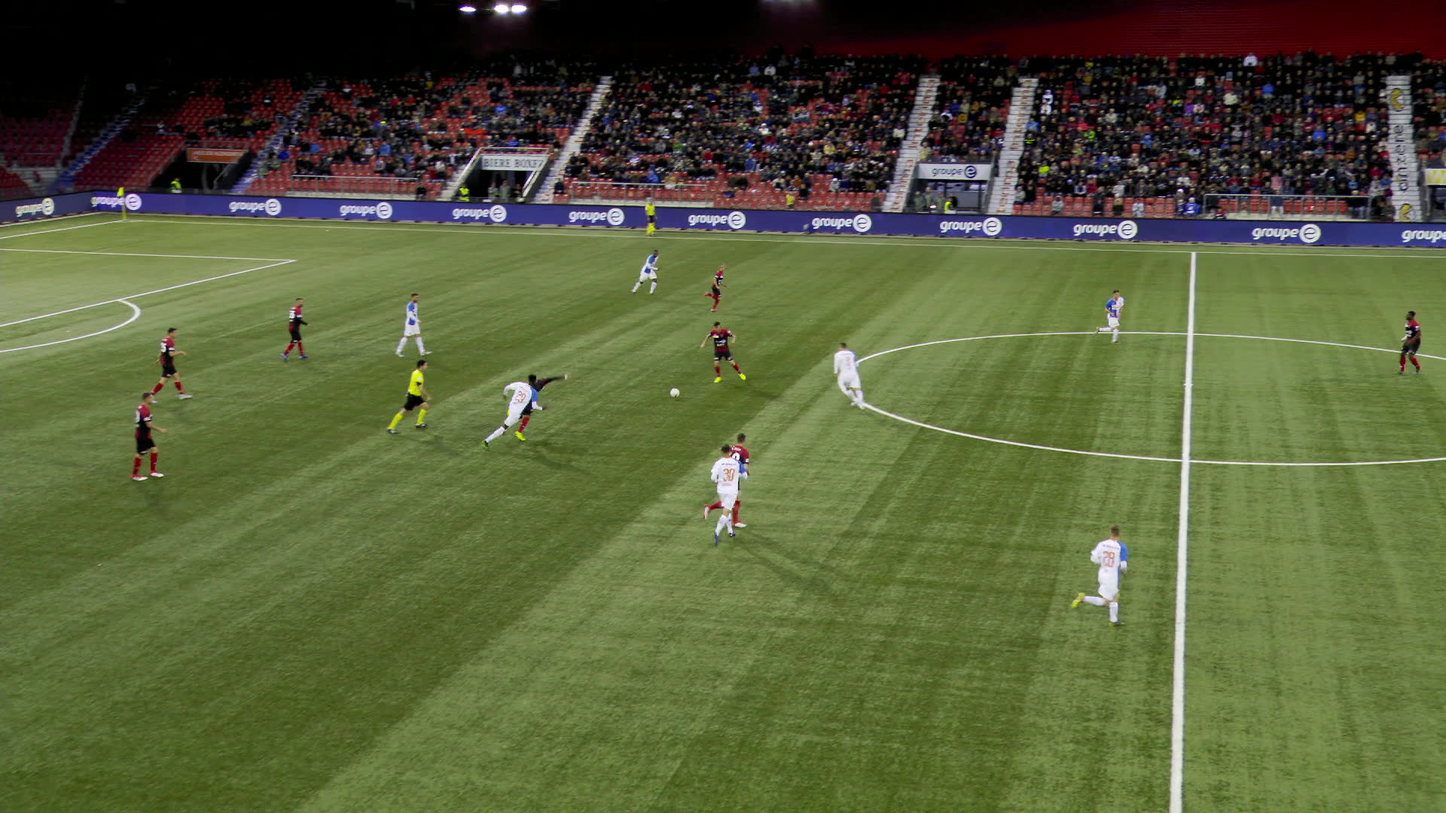ball: (670, 388, 679, 397)
player: (1068, 520, 1127, 627), (703, 430, 751, 527), (488, 370, 542, 444), (502, 365, 559, 435), (710, 446, 749, 547), (133, 390, 174, 478), (154, 324, 194, 401), (835, 343, 872, 415), (703, 318, 740, 381), (400, 289, 430, 356), (1093, 285, 1128, 342), (288, 294, 314, 361), (694, 260, 731, 307), (1402, 310, 1426, 376), (637, 249, 664, 297)
referee: (394, 352, 436, 434), (648, 196, 662, 235)
